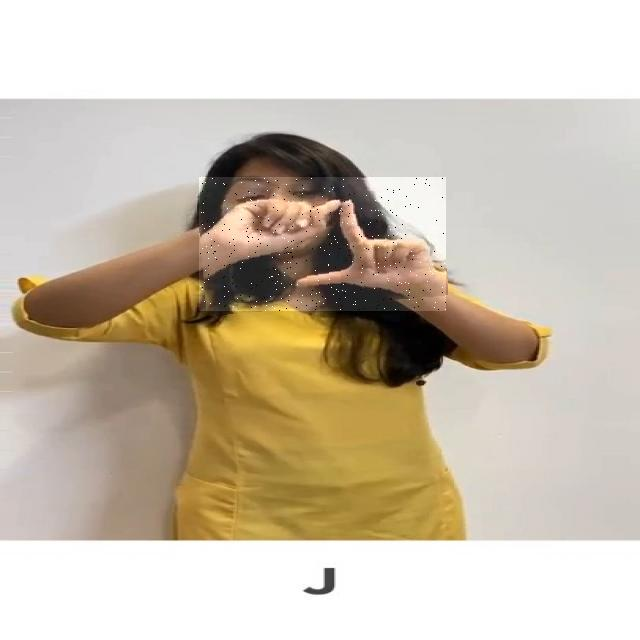J: (199, 177, 446, 311)
